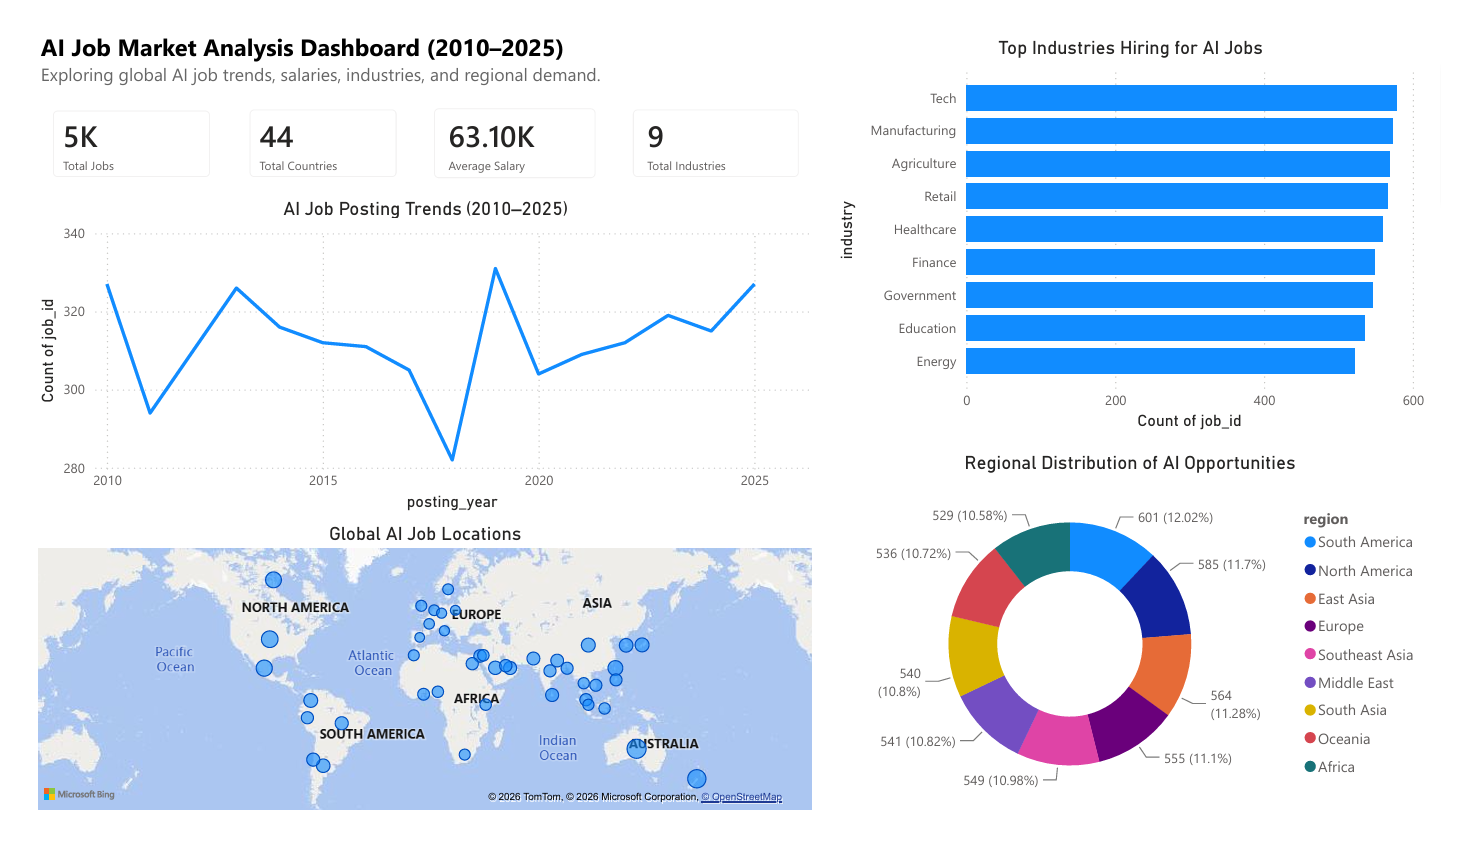

What the dashboard file says about the page in this screenshot:
{"tool":"powerbi","page":{"name":"AI Job Market Analysis Dashboard (2010–2025)","canvas":[1280,720],"ordinal":0},"visuals":[{"type":"cardVisual","fields":{"Data":["ai_impact_jobs_2010_2025.Total Jobs"]},"box":[6.2,58.8,178.8,96.2],"z":0},{"type":"cardVisual","fields":{"Data":["ai_impact_jobs_2010_2025.Total Industries"]},"box":[531.8,58.8,184.1,95.9],"z":1000},{"type":"cardVisual","fields":{"Data":["ai_impact_jobs_2010_2025.Total Countries"]},"box":[185.3,58.8,167.6,95.9],"z":2000},{"type":"cardVisual","fields":{"Data":["ai_impact_jobs_2010_2025.Average Salary"]},"box":[352.9,58.8,178.8,95.9],"z":3000},{"type":"lineChart","title":"AI Job Posting Trends (2010–2025)","fields":{"Category":["ai_impact_jobs_2010_2025.posting_year"],"Y":["CountNonNull(ai_impact_jobs_2010_2025.job_id)"]},"box":[5.9,154.7,710,288.8],"z":4000},{"type":"donutChart","title":"Regional Distribution of AI Opportunities","fields":{"Y":["CountNonNull(ai_impact_jobs_2010_2025.job_id)"],"Category":["ai_impact_jobs_2010_2025.region"]},"box":[727.5,385,542.5,330],"z":5000},{"type":"clusteredBarChart","title":"Top Industries Hiring for AI Jobs","fields":{"Category":["ai_impact_jobs_2010_2025.industry"],"Y":["CountNonNull(ai_impact_jobs_2010_2025.job_id)"]},"box":[728.6,10,541.4,361.4],"z":6000},{"type":"map","title":"Global AI Job Locations","fields":{"Category":["ai_impact_jobs_2010_2025.country"],"Size":["ai_impact_jobs_2010_2025.Total Jobs"]},"box":[5.8,449.2,710,265.8],"z":7000},{"type":"textbox","box":[7.5,0,710,77.5],"z":8000}]}

Visuals, with their boxes in screenshot pixels (x1, y1, x2, y2), scaled from the page's 1280x720 canvas onto the 1467x845 screenshot:
cardVisual - ai_impact_jobs_2010_2025.Total Jobs: 7:69:212:182
cardVisual - ai_impact_jobs_2010_2025.Total Industries: 609:69:820:182
cardVisual - ai_impact_jobs_2010_2025.Total Countries: 212:69:404:182
cardVisual - ai_impact_jobs_2010_2025.Average Salary: 404:69:609:182
"AI Job Posting Trends (2010–2025)" lineChart: 7:182:820:520
"Regional Distribution of AI Opportunities" donutChart: 834:452:1456:839
"Top Industries Hiring for AI Jobs" clusteredBarChart: 835:12:1456:436
"Global AI Job Locations" map: 7:527:820:839
textbox: 9:0:822:91
